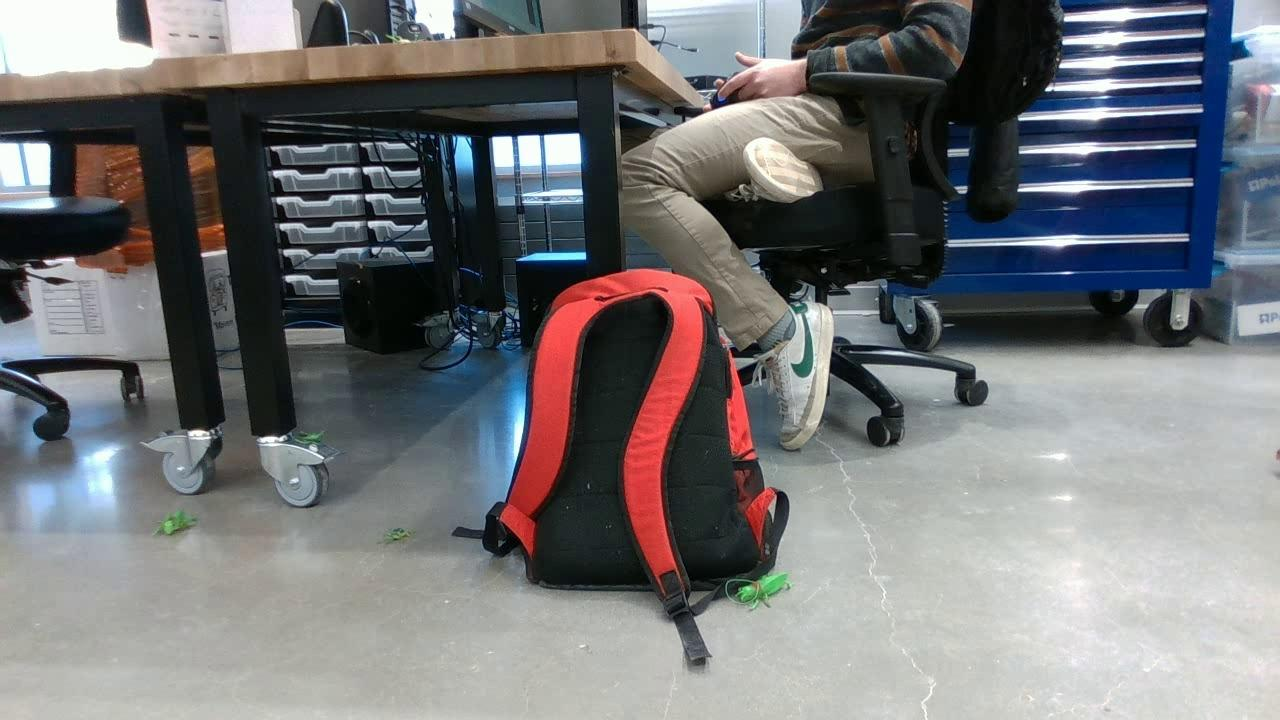grasshopper: (730, 567, 792, 614), (151, 513, 189, 539)
